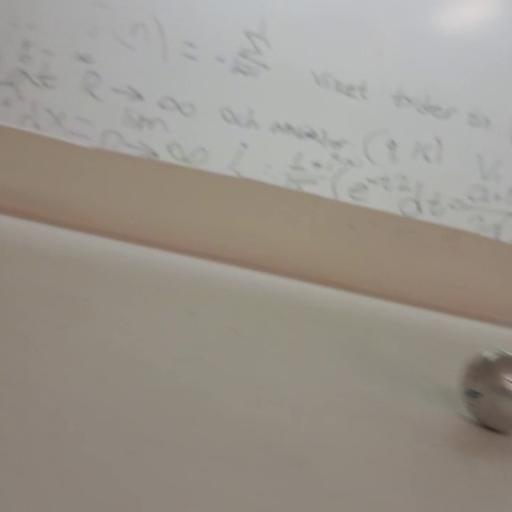alive: (458, 346, 512, 436)
